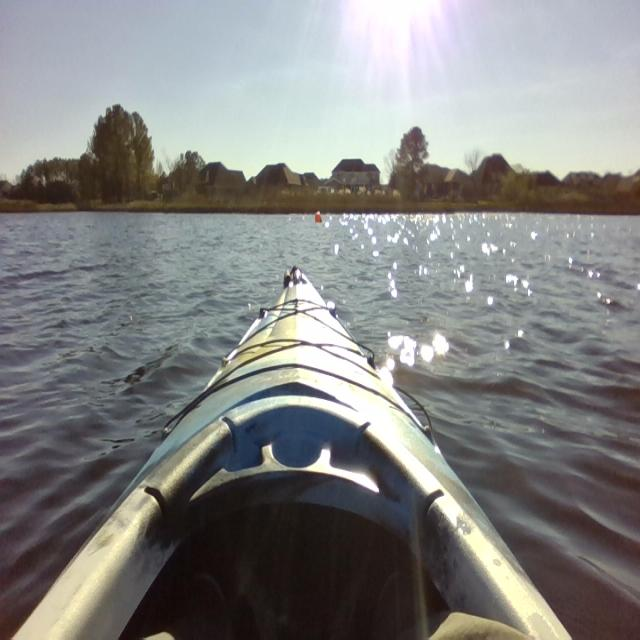Buoy: (312, 207, 324, 230)
